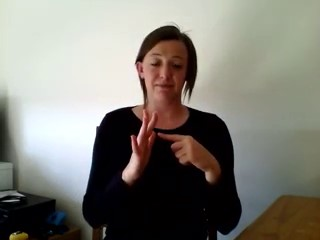A: (120, 105, 224, 179)
